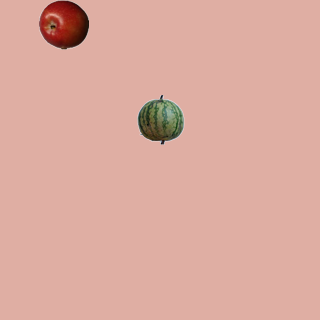Apple Braeburn: (38, 0, 88, 49)
Watermelon: (135, 94, 185, 144)
